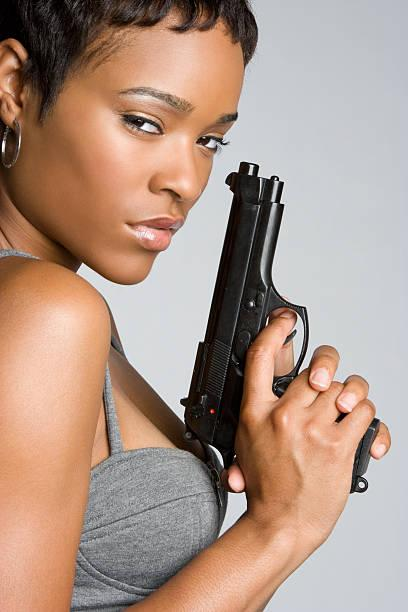weapon: (177, 160, 382, 495)
